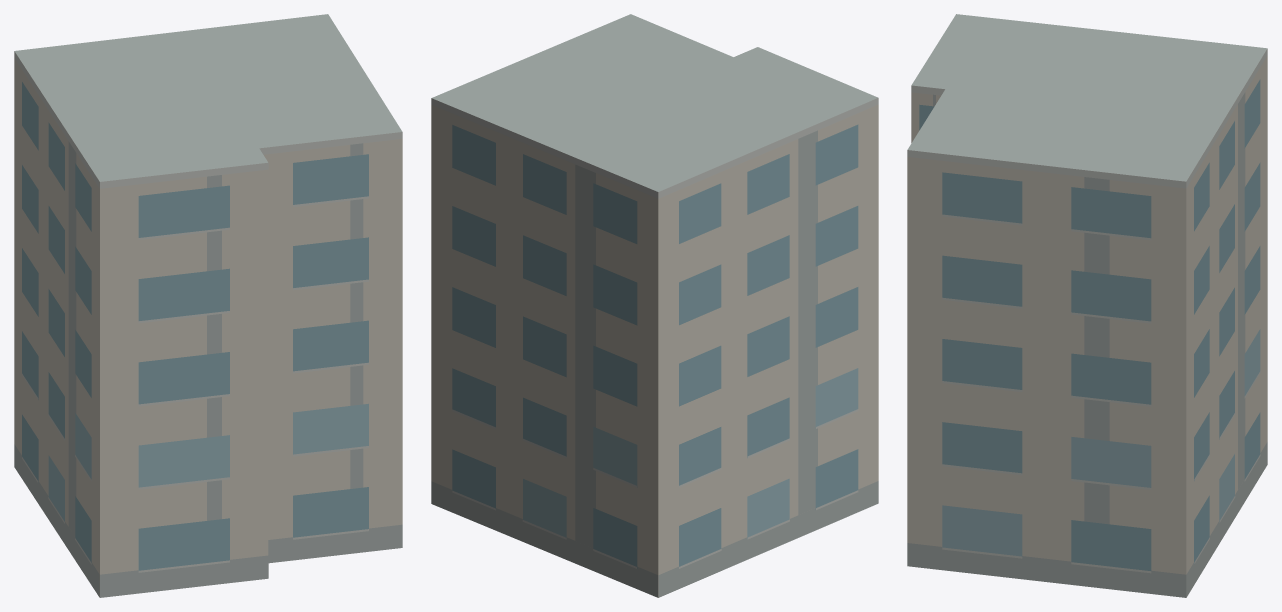
Rendered from survey-upis-33013216.glb.
The picture shows the model from 3 angles, left to right: view 1: azimuth 30°, elevation 25°; view 2: azimuth 150°, elevation 25°; view 3: azimuth 270°, elevation 25°; orthographic projection. The views are drawn at different scales.
Visible parts, largest first — view 1: survey-upis-33013216.tmp; view 2: survey-upis-33013216.tmp; view 3: survey-upis-33013216.tmp.
Boxes of the visible parts, x1,y1,x2,y2 form: survey-upis-33013216.tmp: (14, 14, 402, 597); survey-upis-33013216.tmp: (431, 14, 878, 597); survey-upis-33013216.tmp: (907, 14, 1267, 597).
Size of the model in its own units: 12.75 by 14.75 by 11.58.
